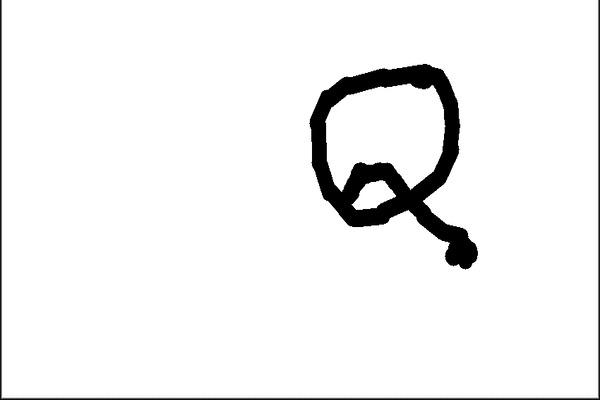Q: (277, 64, 481, 279)
